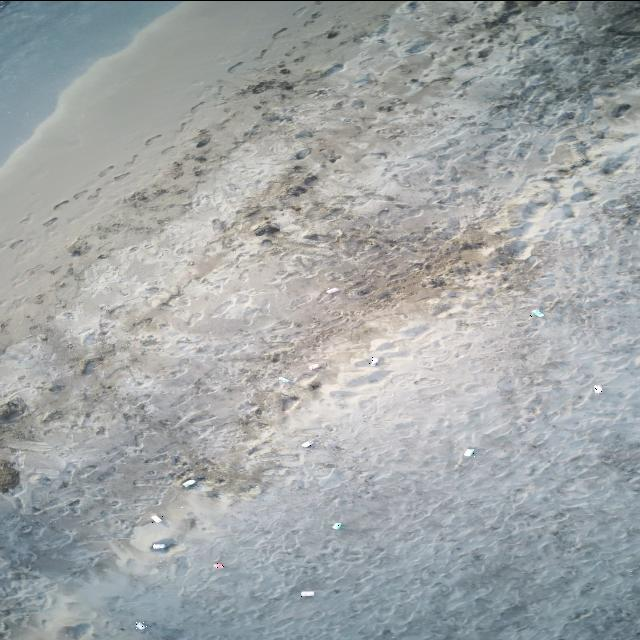Garbage: (253, 220, 279, 235), (151, 539, 175, 551), (304, 377, 320, 390), (529, 308, 543, 316), (151, 543, 167, 550), (278, 375, 292, 383), (182, 479, 196, 487), (135, 620, 145, 630), (151, 513, 160, 523), (367, 357, 377, 366), (301, 440, 312, 447), (308, 363, 320, 369), (328, 287, 339, 293), (464, 448, 473, 455), (593, 384, 602, 391), (300, 591, 313, 595), (213, 562, 223, 567), (333, 522, 340, 528)
